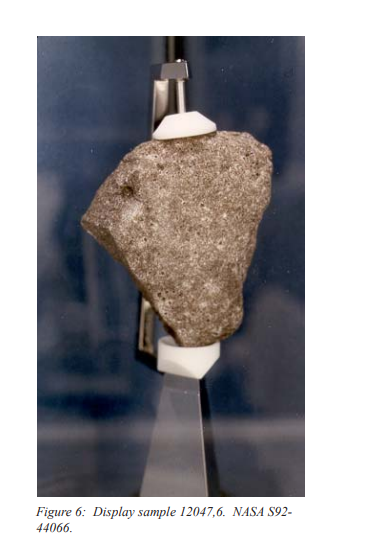Basalt: (89, 132, 276, 339)
